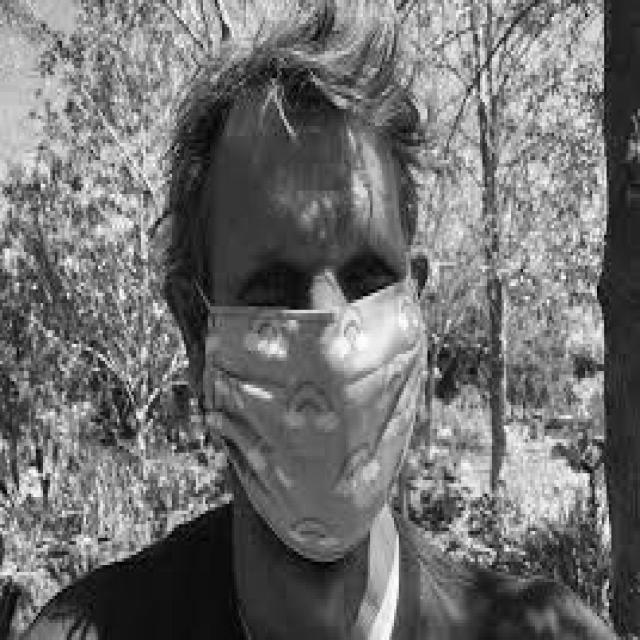fake: (192, 250, 438, 566)
real: (200, 103, 434, 570)
